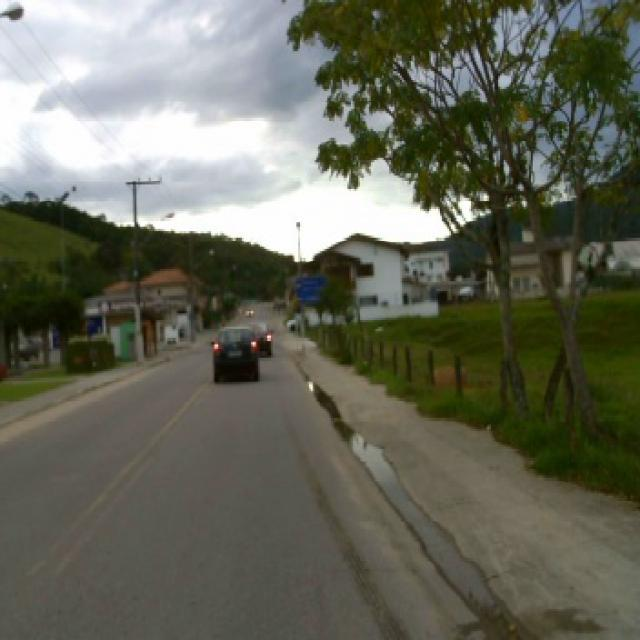Poth-hole: (298, 364, 538, 636)
